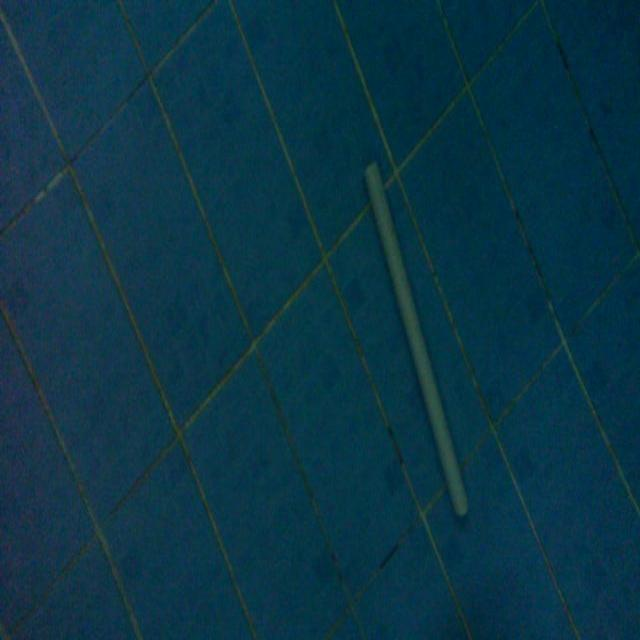Cube: (362, 155, 470, 521)
